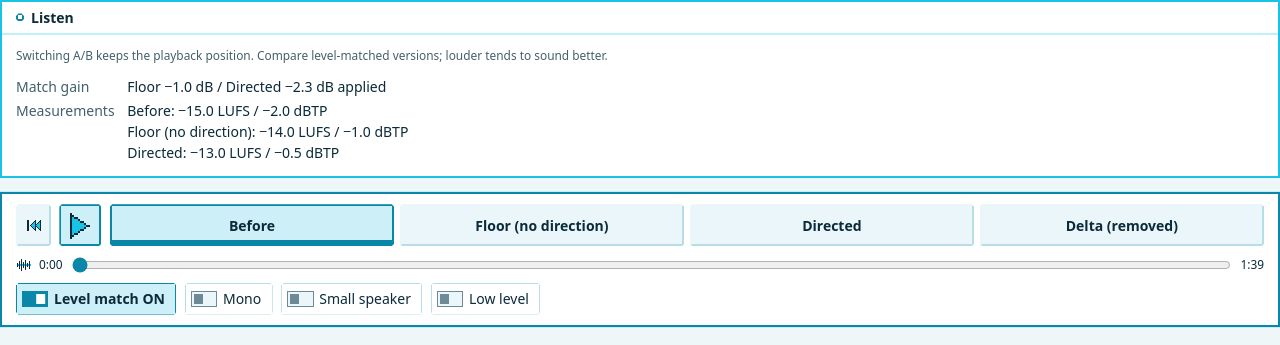
it: Listen floor › switches all four synchronized sources using the supplied gains without reload or seek
Expected: the radio button labelled "Before" is shown, x1=110 y1=204 x2=394 y2=246
Expected: the radio button labelled "Directed" is shown, x1=690 y1=204 x2=974 y2=246
Click the radio button with test id "ab-floor".
click(542, 225)  # box x1=400 y1=204 x2=684 y2=246
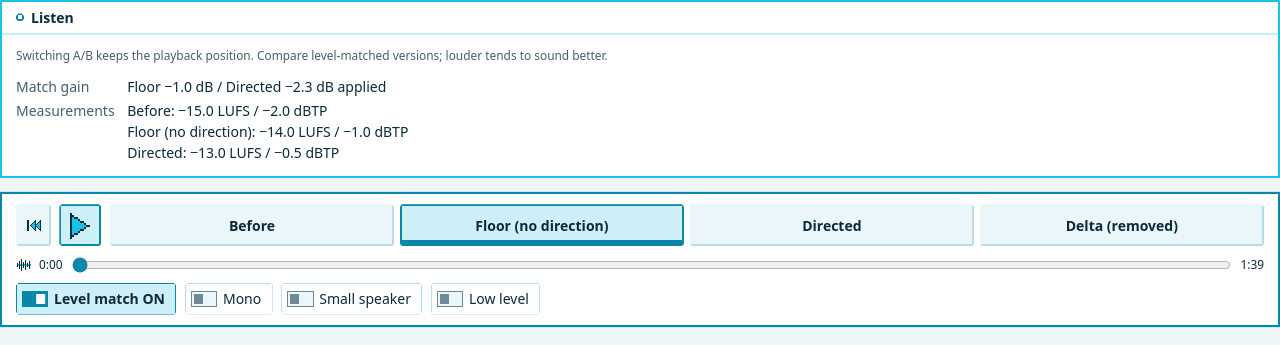
Expected: the radio button with test id "ab-floor" is checked, x1=400 y1=204 x2=684 y2=246
Click the radio button with test id "ab-after".
click(832, 225)  # box x1=690 y1=204 x2=974 y2=246
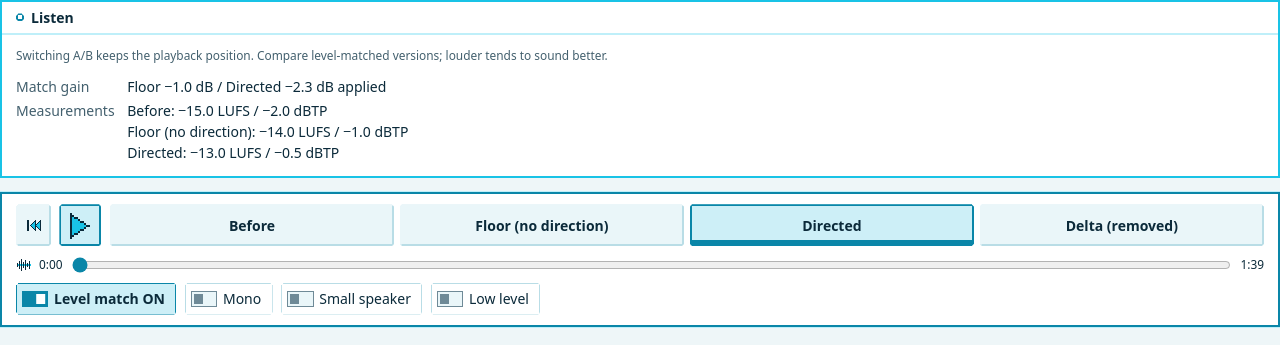
Expected: the radio button with test id "ab-after" is checked, x1=690 y1=204 x2=974 y2=246
Click the radio button with test id "ab-before".
click(252, 225)  # box x1=110 y1=204 x2=394 y2=246
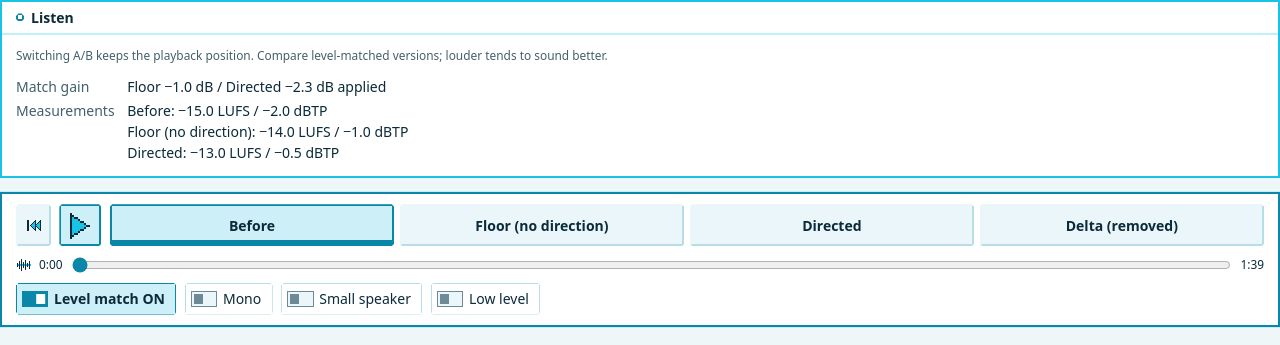
Expected: the radio button with test id "ab-before" is checked, x1=110 y1=204 x2=394 y2=246
Click the radio button with test id "ab-delta".
click(1122, 225)  # box x1=980 y1=204 x2=1264 y2=246
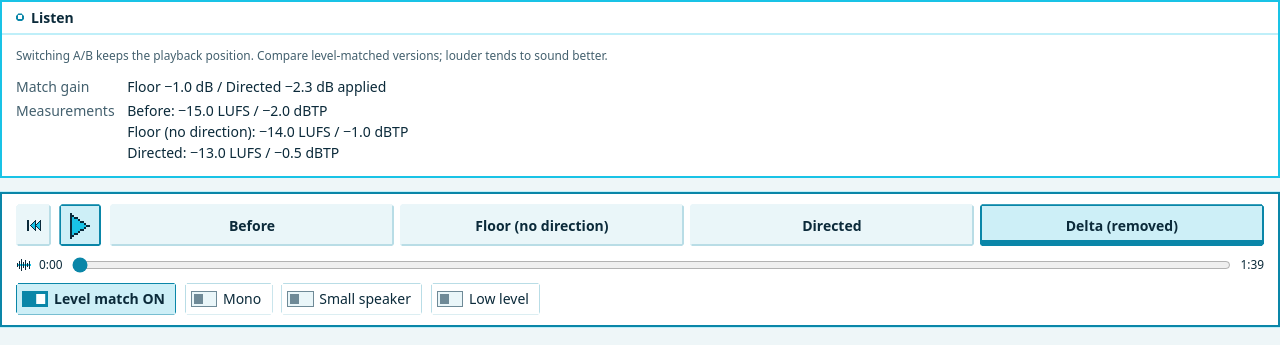
Expected: the radio button with test id "ab-delta" is checked, x1=980 y1=204 x2=1264 y2=246
